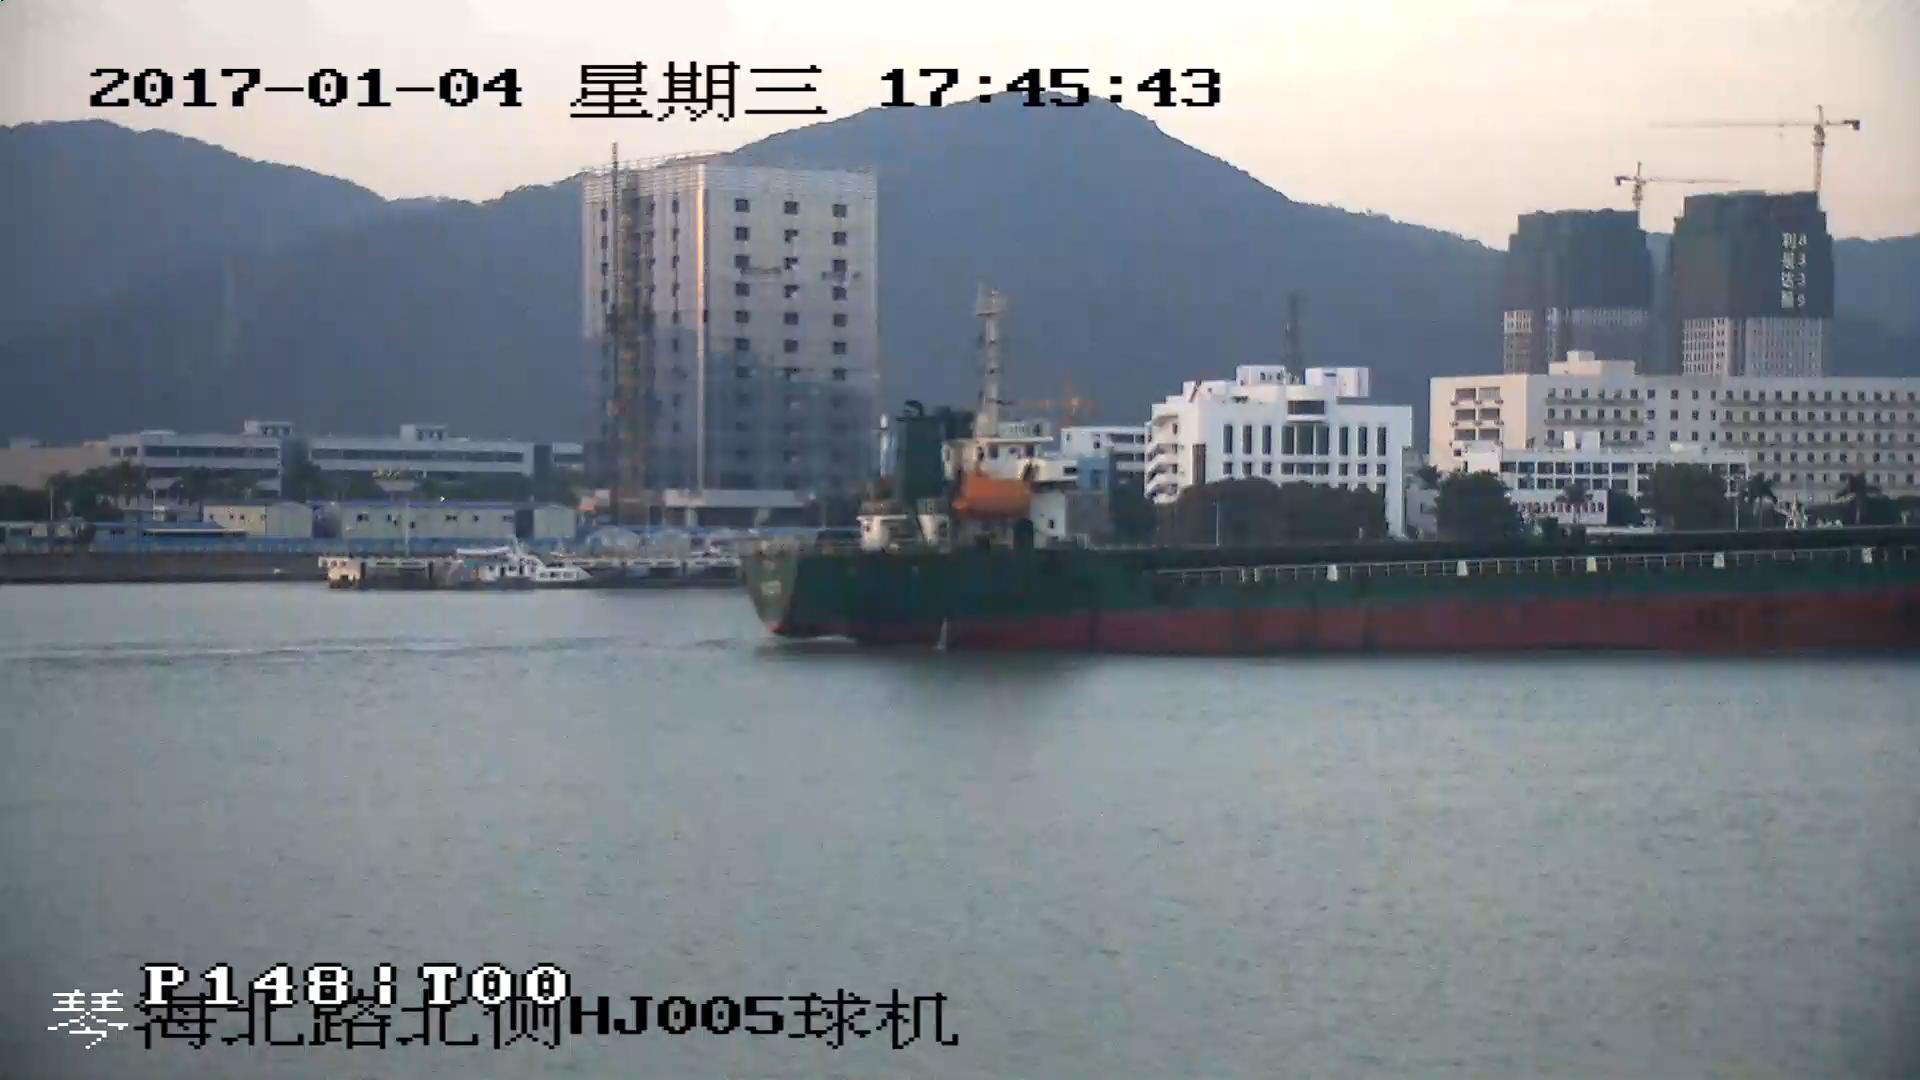general cargo ship: (742, 281, 1920, 656)
